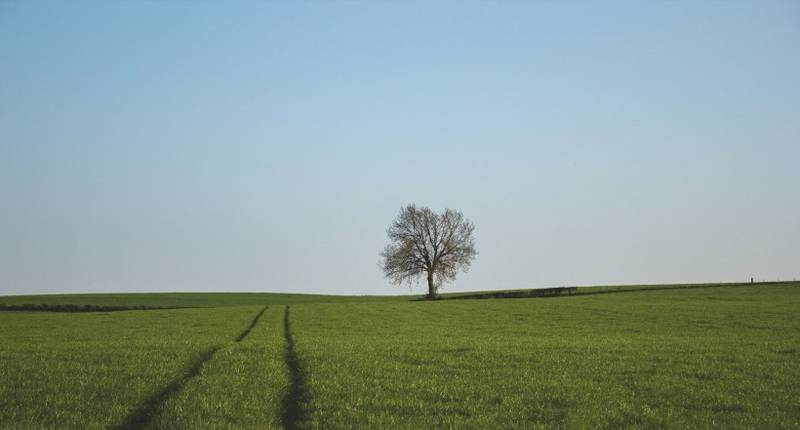tree: (378, 201, 480, 299)
